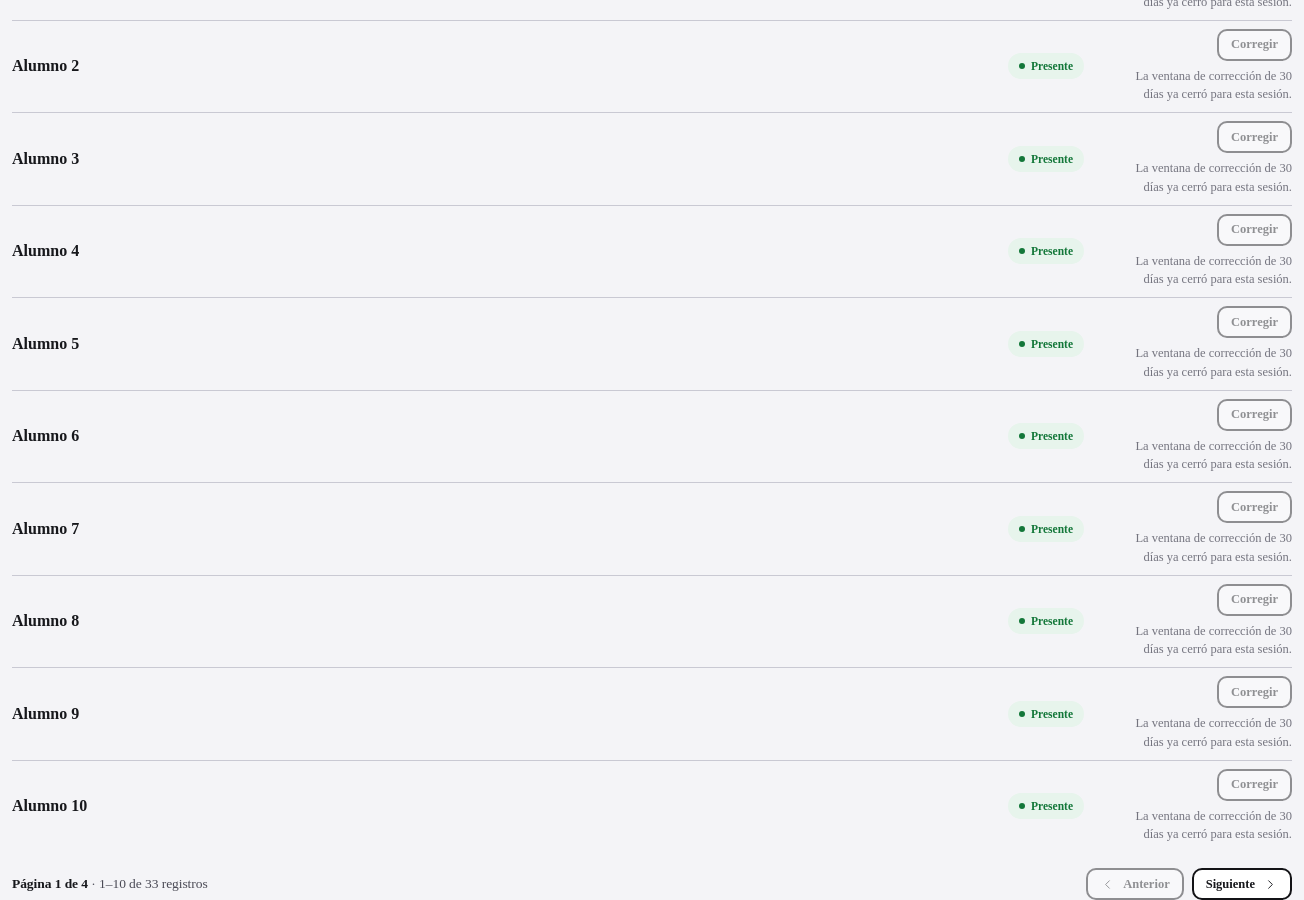
Test: SessionRecordsPanel — pagination (issue #1616) › shows 10 per page with the range readout and 4 pages for 33 records
(page scrolled)
Expected: the text "· 1–10 de 33 registros" is shown, [88,876,208,891]
Expected: the button "Anterior" is disabled, [1086,868,1184,899]
Click the button "Siguiente": (1242,884) [1192,868,1292,899]
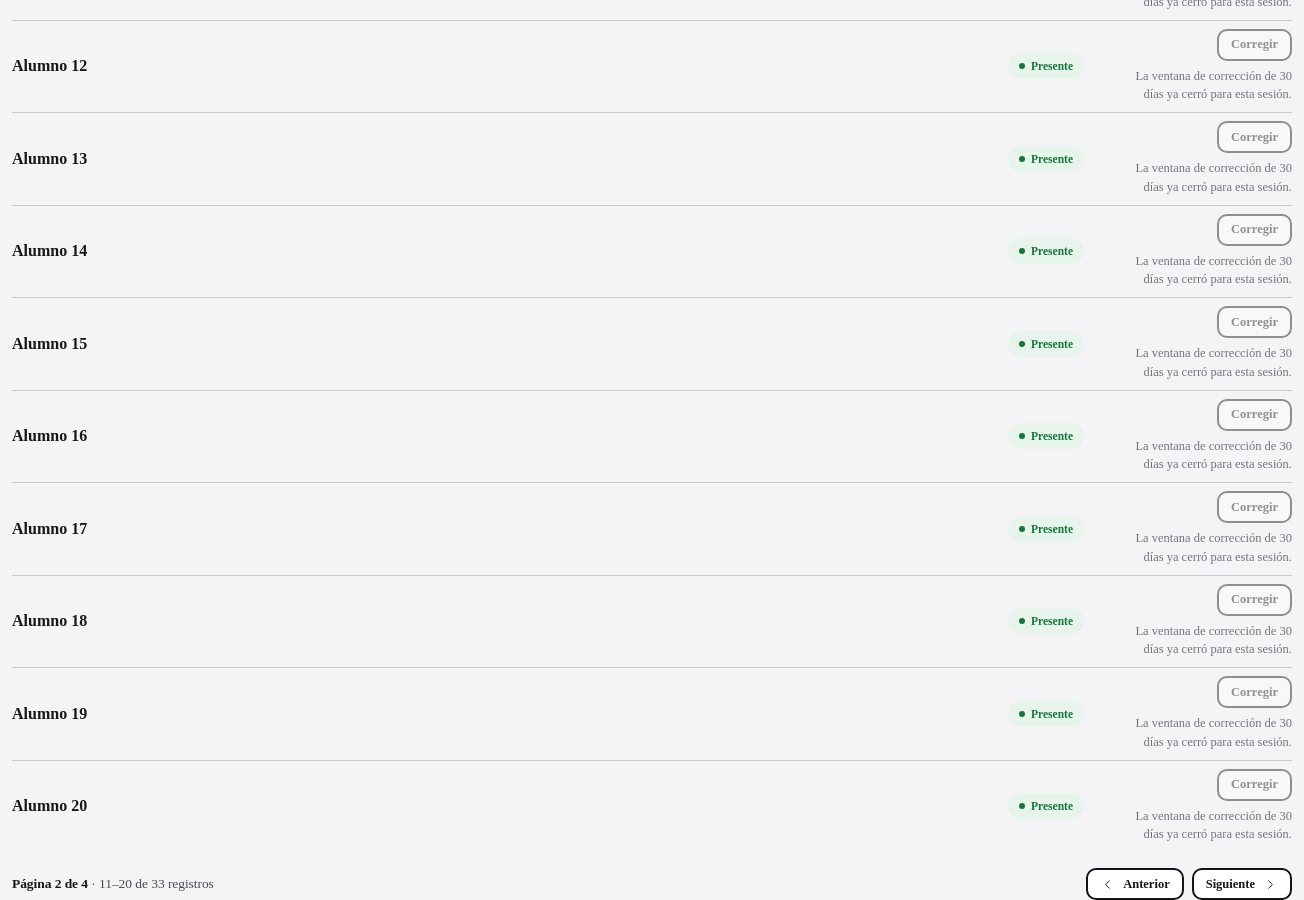
Click the button "Siguiente": (1242,884) [1192,868,1292,899]
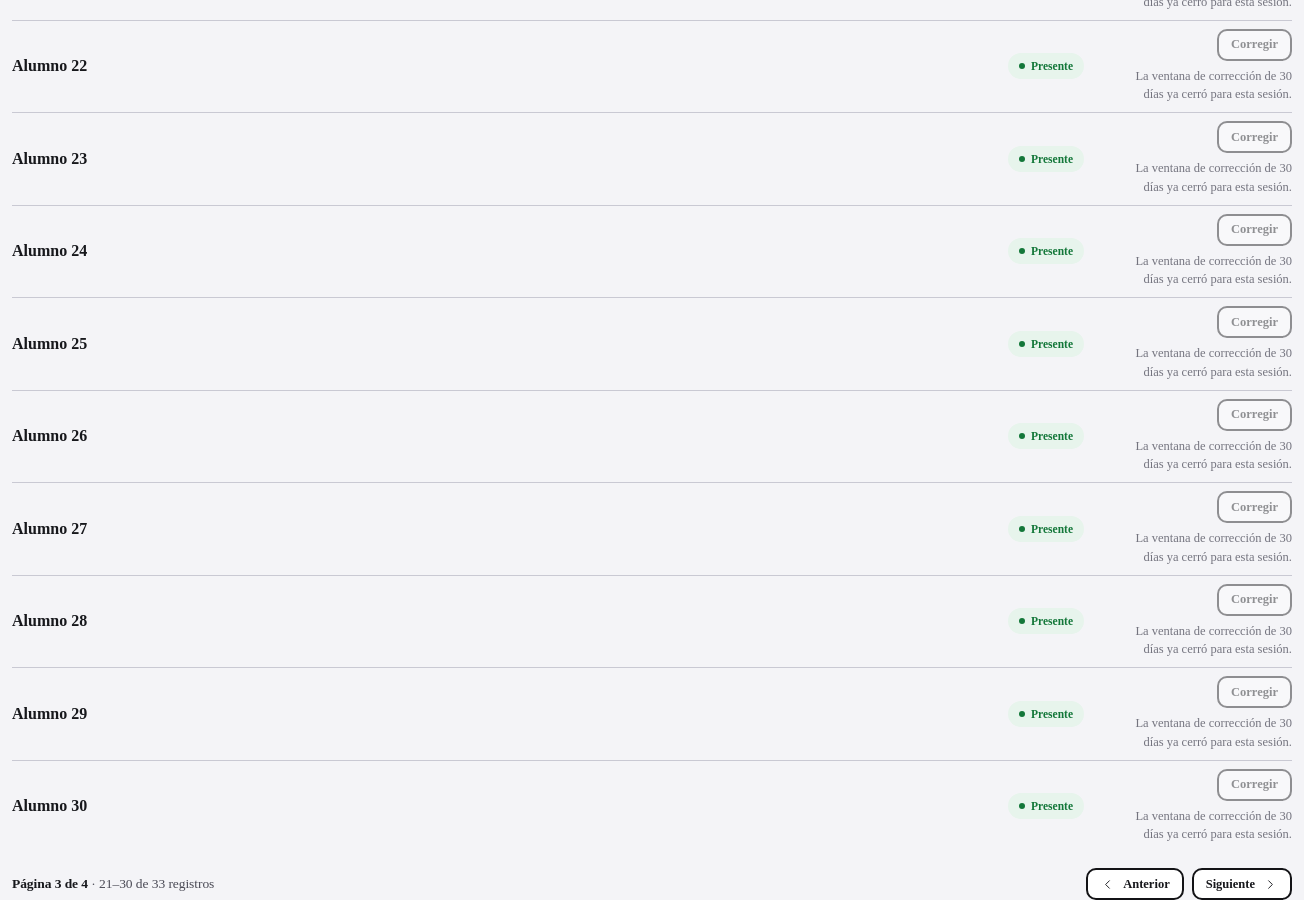
Click the button "Siguiente": (1242,884) [1192,868,1292,899]
(page scrolled)
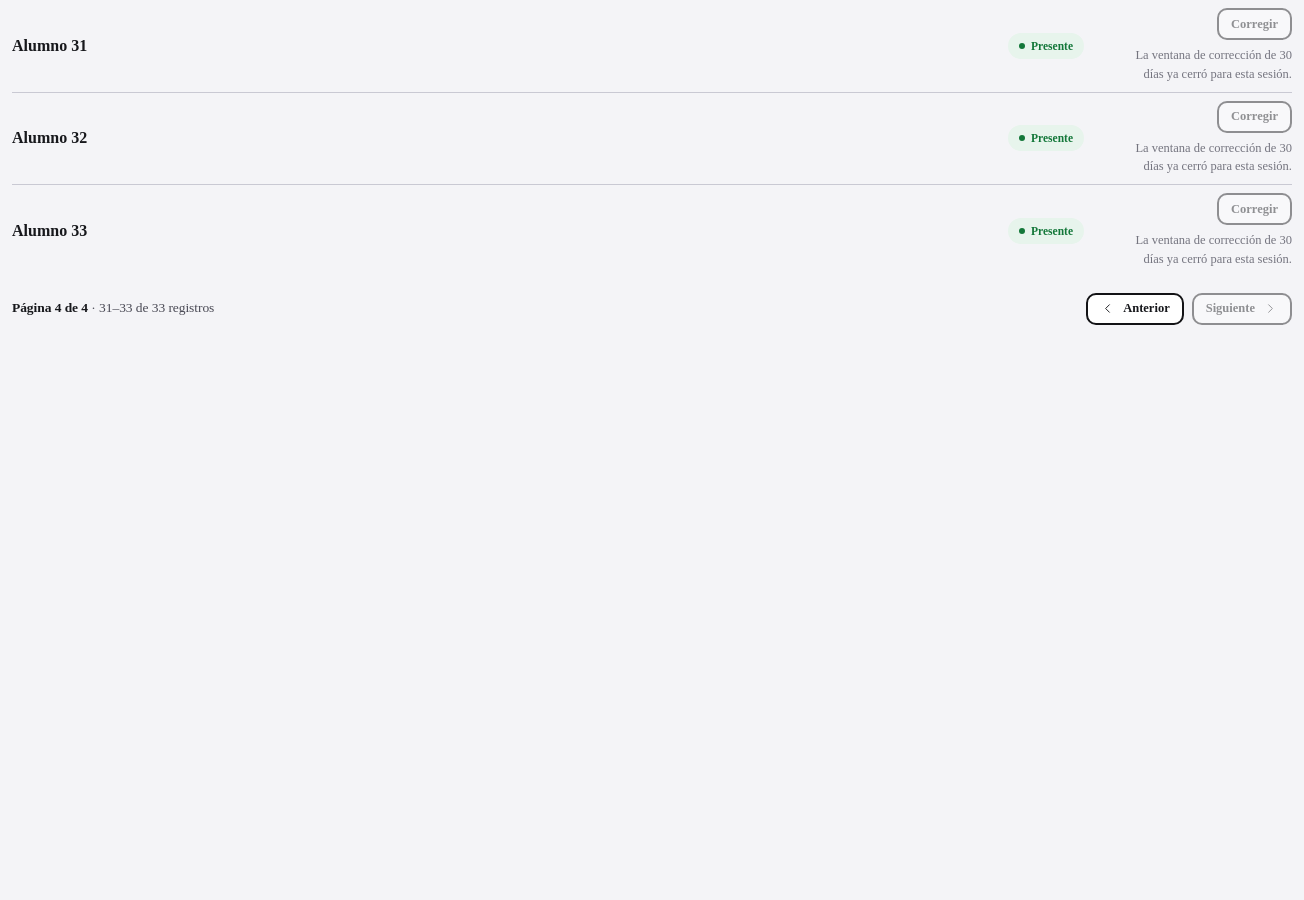
Expected: the number of list items is 3, [12,0,1292,92]; [12,92,1292,184]; [12,184,1292,276]
Expected: the text "Alumno 31" is shown, [12,37,87,54]
Expected: the text "· 31–33 de 33 registros" is shown, [88,300,214,315]
